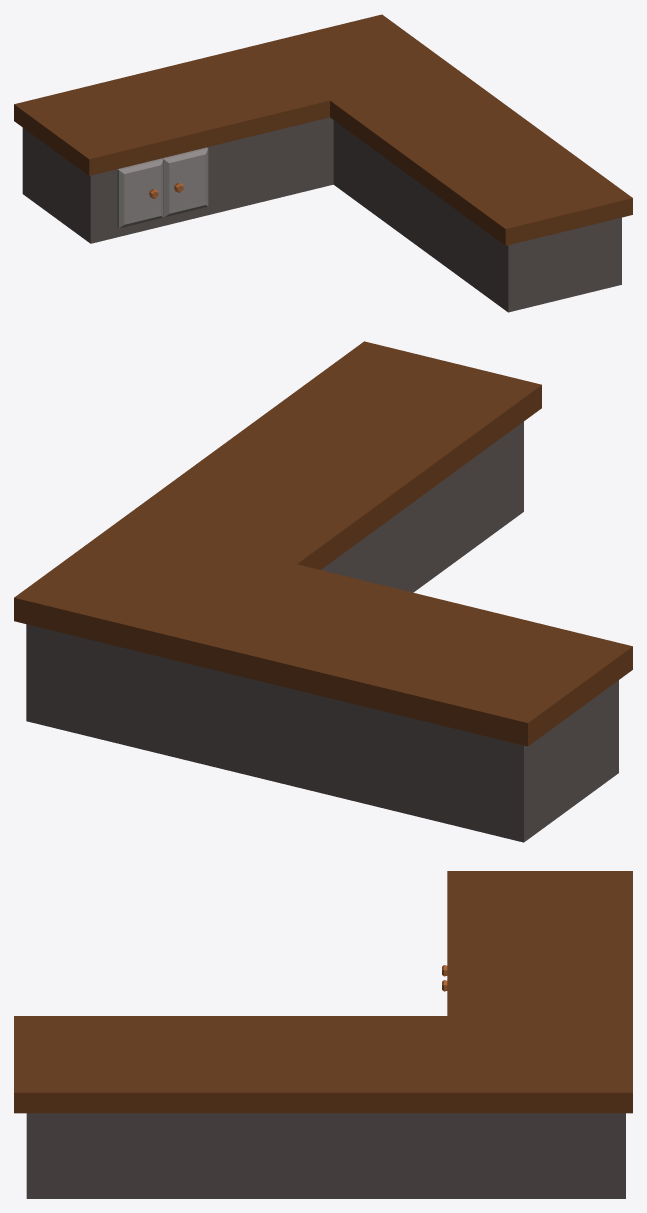
The model's file is cupboard.fbx.
3 renders of one model, top to bottom at view 1: azimuth 30°, elevation 25°; view 2: azimuth 150°, elevation 25°; view 3: azimuth 270°, elevation 25°, orthographic. The views are drawn at different scales.
Visible parts, largest first — view 1: cupboard; view 2: cupboard; view 3: cupboard.
Boxes of the visible parts, x1,y1,x2,y2 form: cupboard: [14, 14, 632, 312]; cupboard: [14, 341, 632, 842]; cupboard: [14, 871, 632, 1198].
Size of the model in its own units: 265 by 61.26 by 313.
